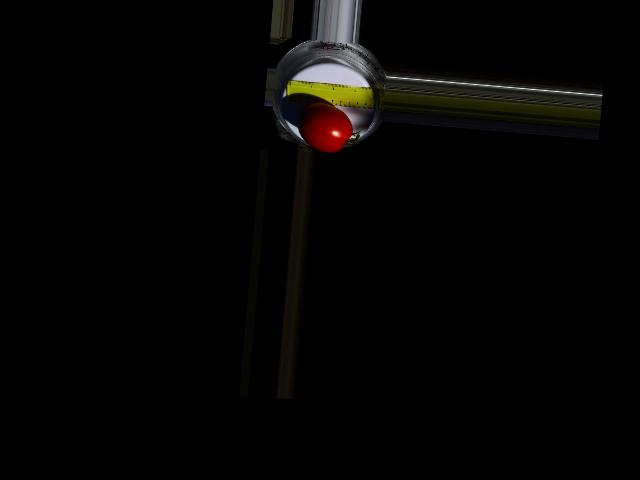tomato: (296, 100, 355, 155)
